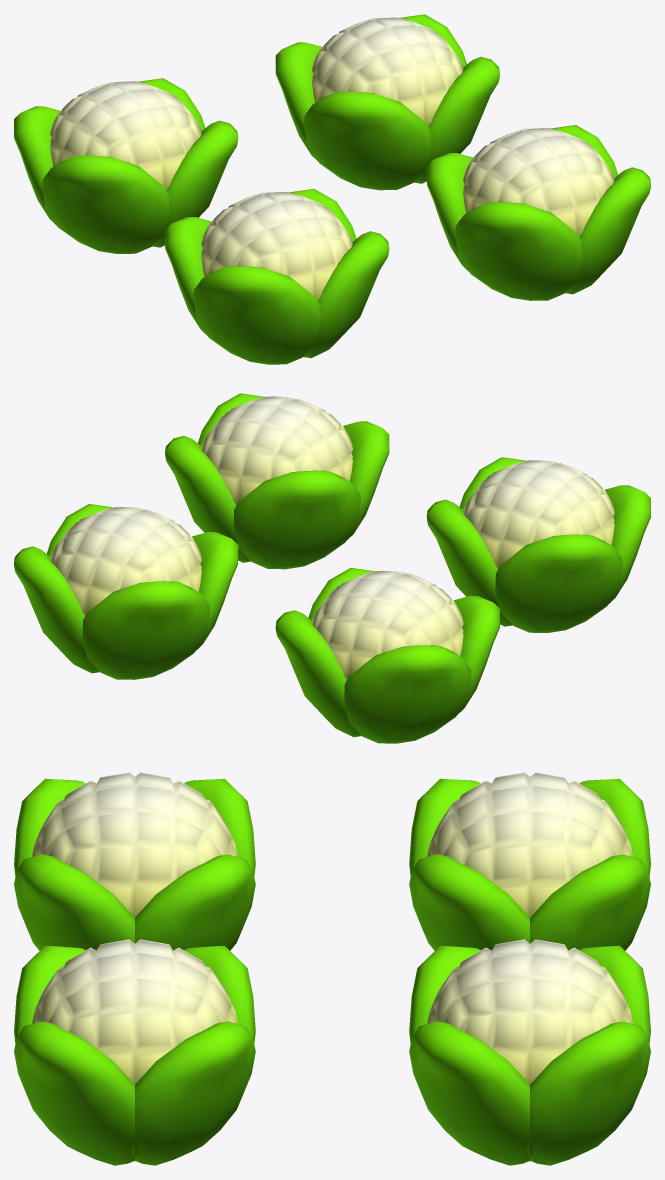
File: Farm_Crop_Cauliflower_Step_03.glb
3 renders of one model, top to bottom at view 1: azimuth 30°, elevation 25°; view 2: azimuth 150°, elevation 25°; view 3: azimuth 270°, elevation 25°, orthographic. The views are drawn at different scales.
Parts seen in each view (by area): view 1: Farm_Crop_Cauliflower_Step_03; view 2: Farm_Crop_Cauliflower_Step_03; view 3: Farm_Crop_Cauliflower_Step_03.
Part boxes in pixels (bbox=[...]): Farm_Crop_Cauliflower_Step_03: bbox=[14, 14, 650, 364]; Farm_Crop_Cauliflower_Step_03: bbox=[14, 393, 650, 743]; Farm_Crop_Cauliflower_Step_03: bbox=[14, 772, 650, 1165].
Bounding box in the file's own units: 1.67 × 0.5637 × 1.61.
Materials: 1 (1 with a texture image).
